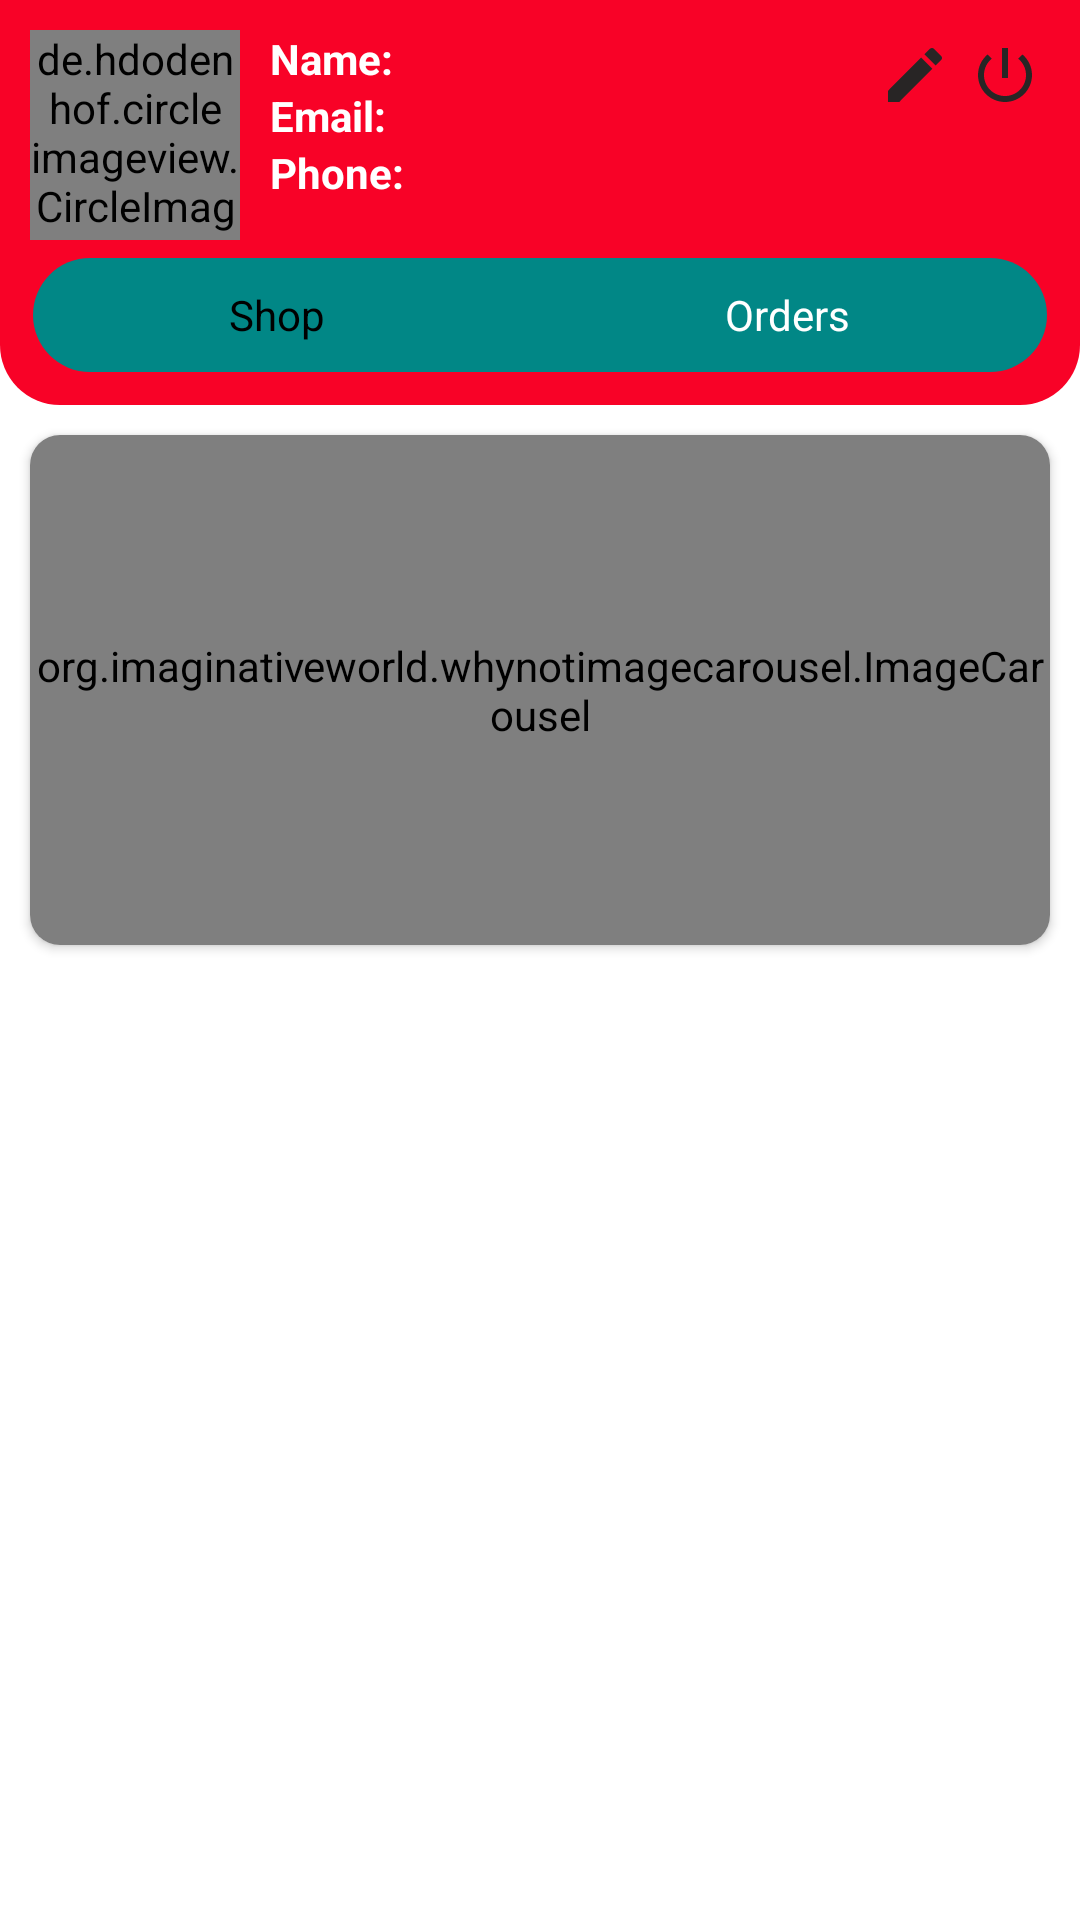

Icons on this 1080*1920 Android screen, each with its box as bbox=[x1, y1, x2, y2]:
edit: bbox=[888, 48, 942, 102]
power: bbox=[978, 48, 1032, 102]
